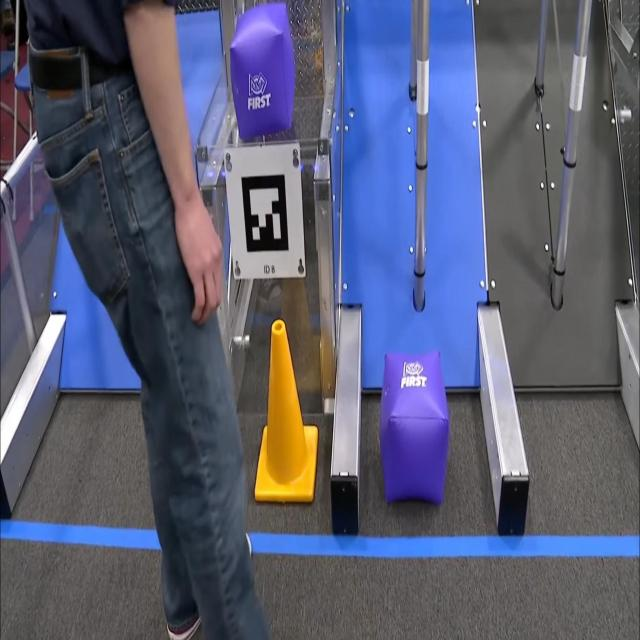frc_cone: (254, 317, 318, 508)
frc_cube: (381, 356, 448, 505), (232, 2, 294, 133)
